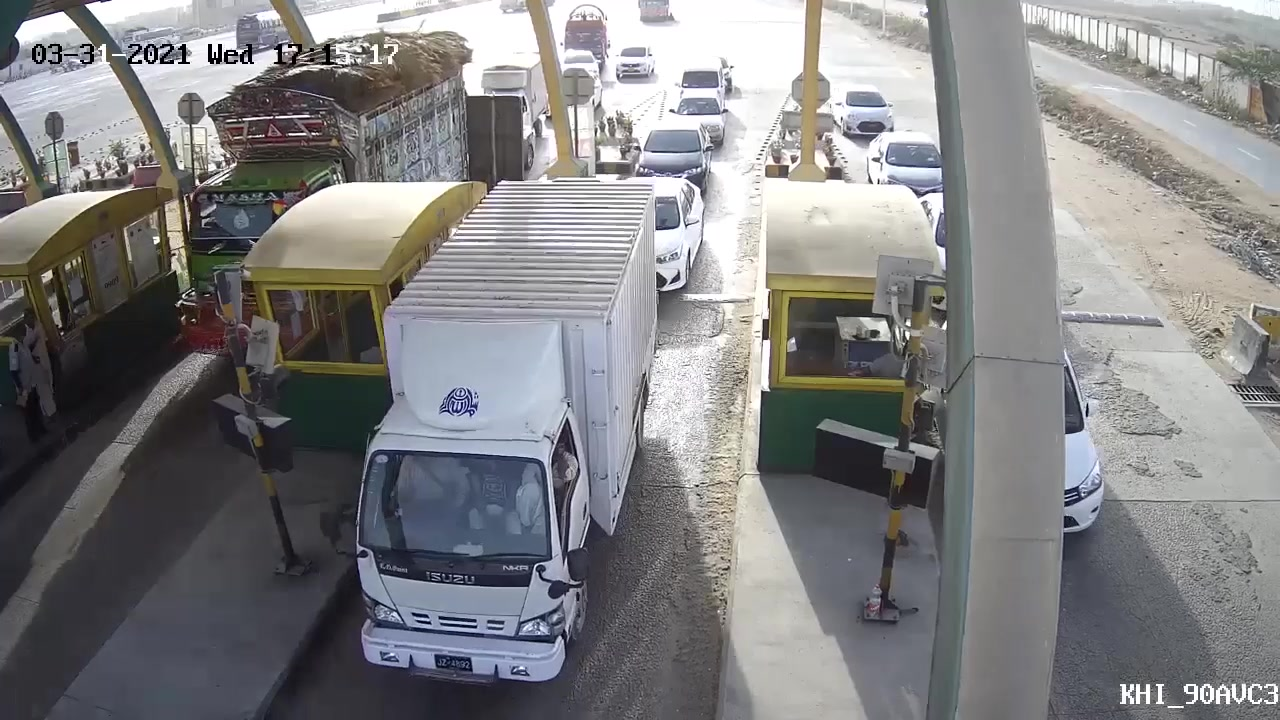F3: (337, 178, 664, 683)
